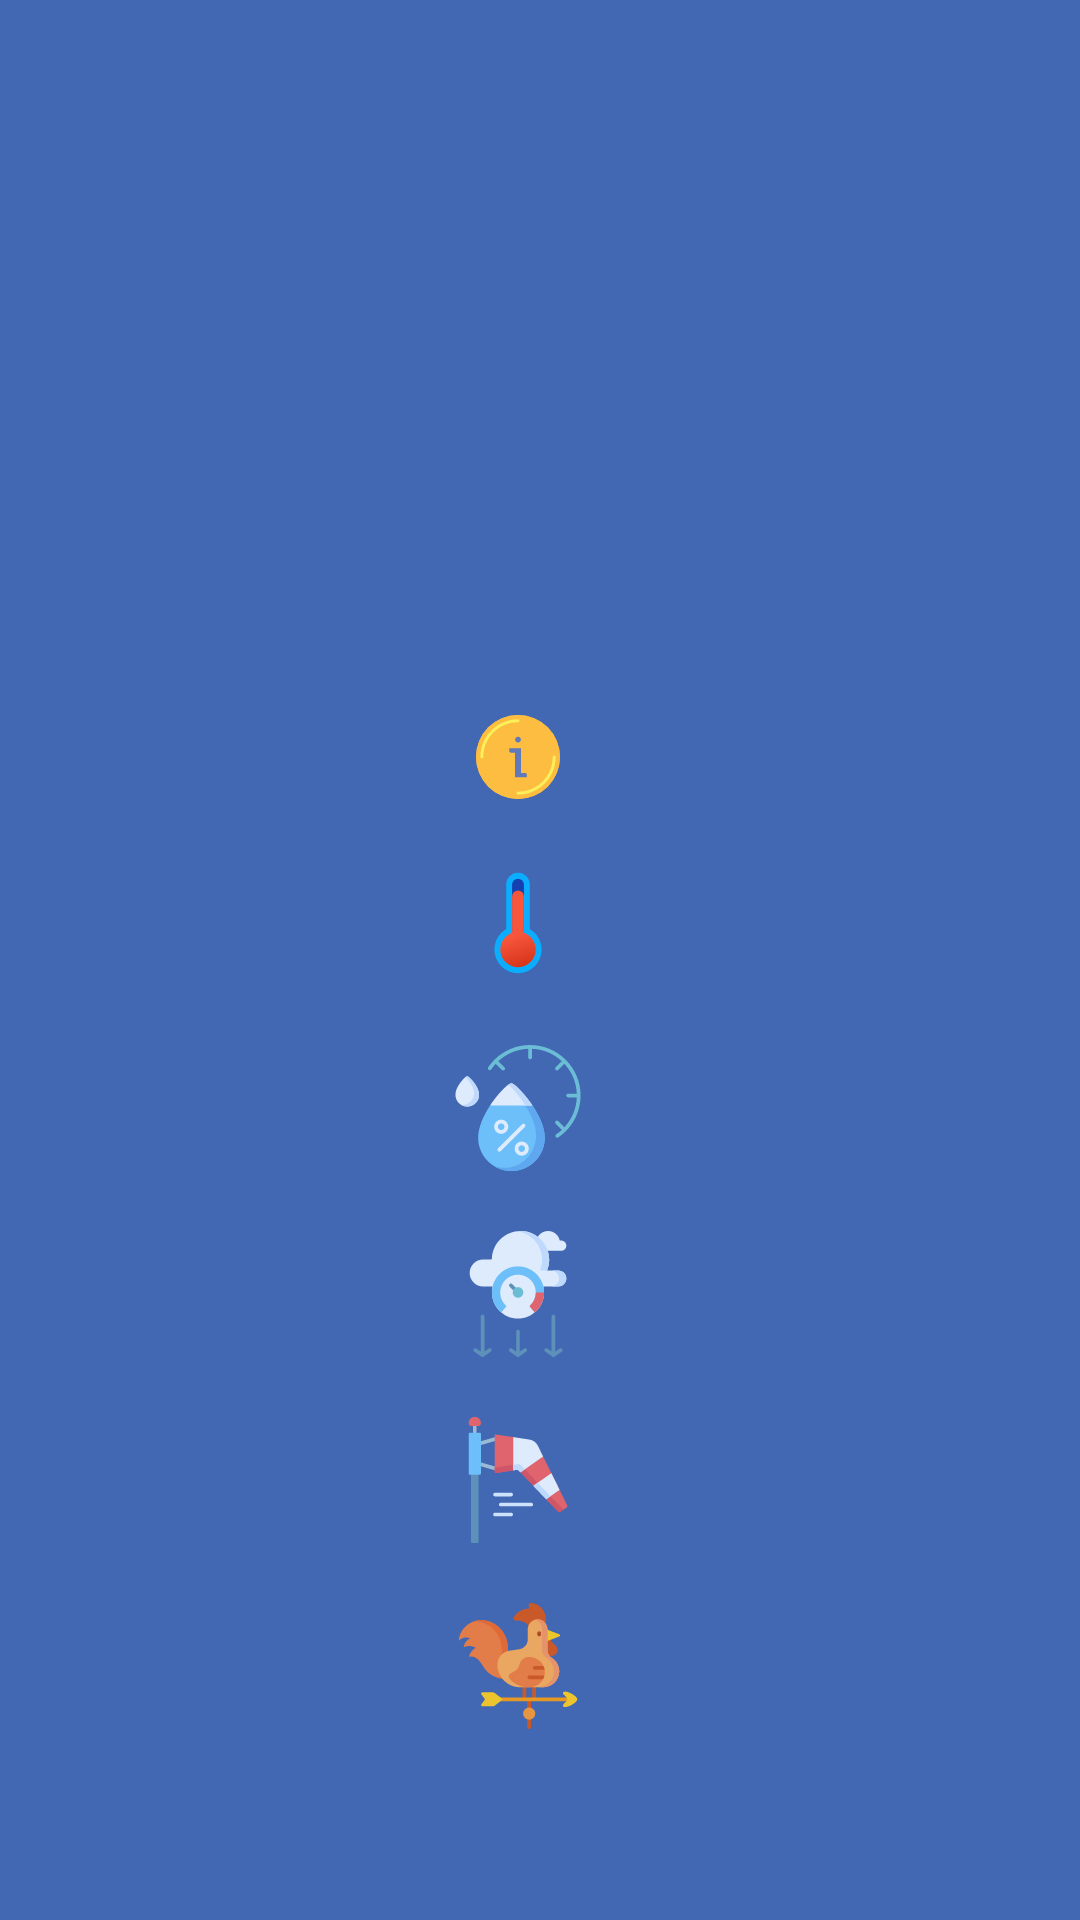

Screen size 1080px×1920px. Icon name, then its center in pixels as point (x, y):
humidity: point (518, 1108)
info: point (518, 757)
pressure: point (518, 1294)
temperature: point (518, 923)
wind direction: point (518, 1666)
wind speed: point (518, 1480)
